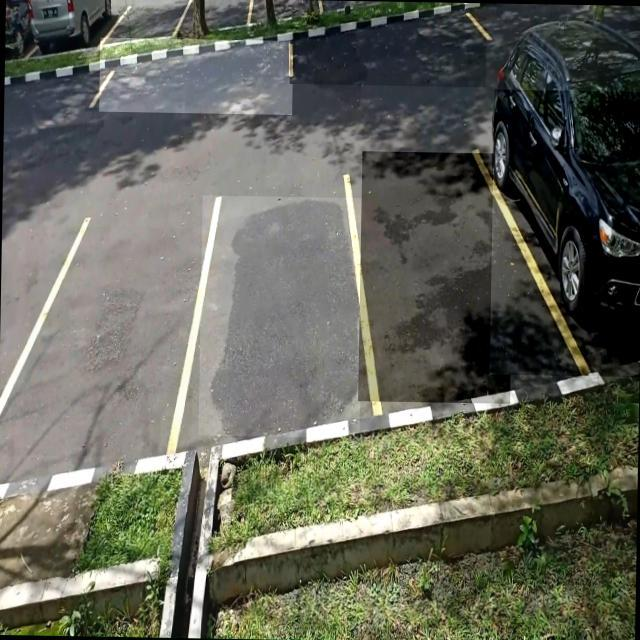empty: (198, 195, 363, 438), (22, 225, 194, 458), (358, 150, 514, 404), (99, 38, 292, 115), (289, 14, 486, 87)
occupied: (489, 89, 640, 376)
